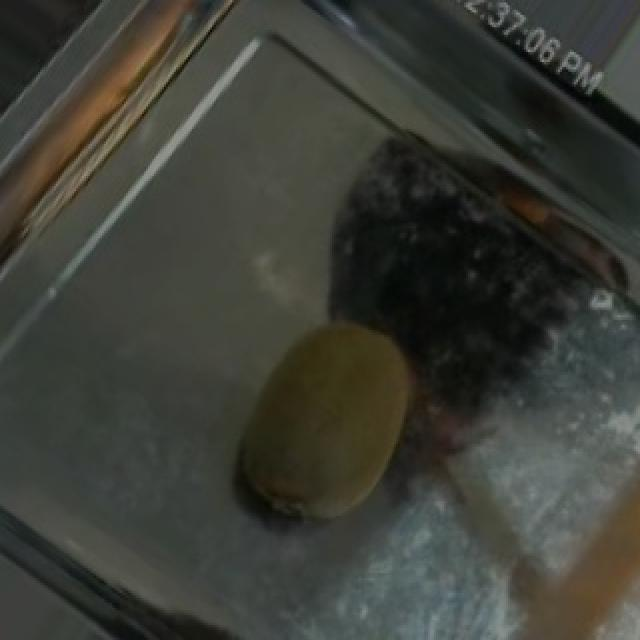Fruit: (208, 298, 440, 543), (482, 431, 640, 640)
